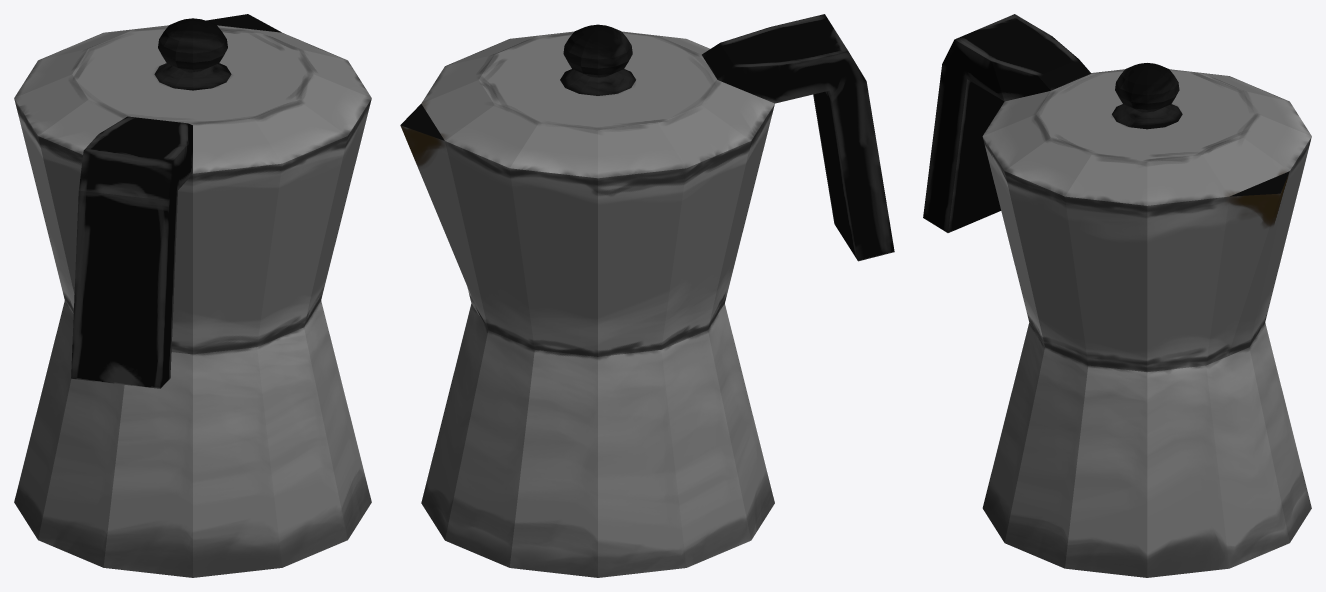
Rendered from Cafetera.fbx.
The picture shows the model from 3 angles, left to right: view 1: azimuth 30°, elevation 25°; view 2: azimuth 150°, elevation 25°; view 3: azimuth 270°, elevation 25°; orthographic projection. The views are drawn at different scales.
Parts seen in each view (by area): view 1: Cylinder, Cylinder.001; view 2: Cylinder, Cylinder.001; view 3: Cylinder, Cylinder.001.
Part boxes in pixels (x1,y1,x2,y2): Cylinder: [14, 18, 371, 577]; Cylinder.001: [206, 14, 281, 32]; Cylinder: [400, 14, 894, 577]; Cylinder.001: [400, 104, 444, 140]; Cylinder: [923, 14, 1311, 577]; Cylinder.001: [1230, 171, 1289, 196].
Bounding box in the file's own units: 236 × 296 × 236.
2 materials, 1 textured.
